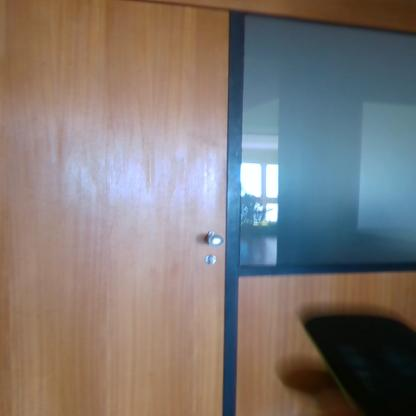closed: (0, 7, 241, 416)
